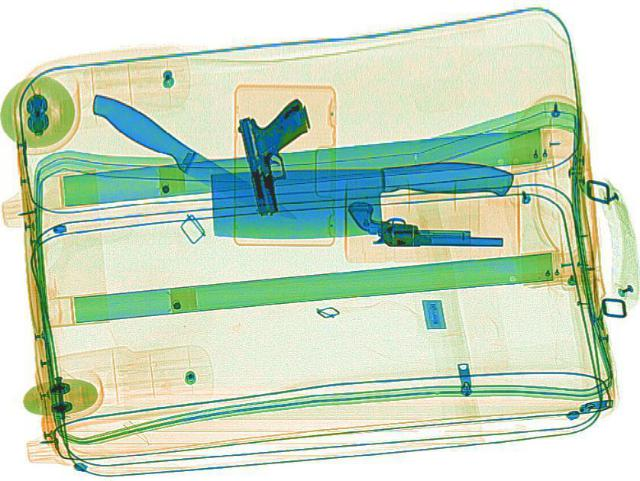Gun: (226, 96, 328, 216), (343, 200, 504, 247)
Knife: (76, 88, 302, 229), (210, 160, 512, 238)
